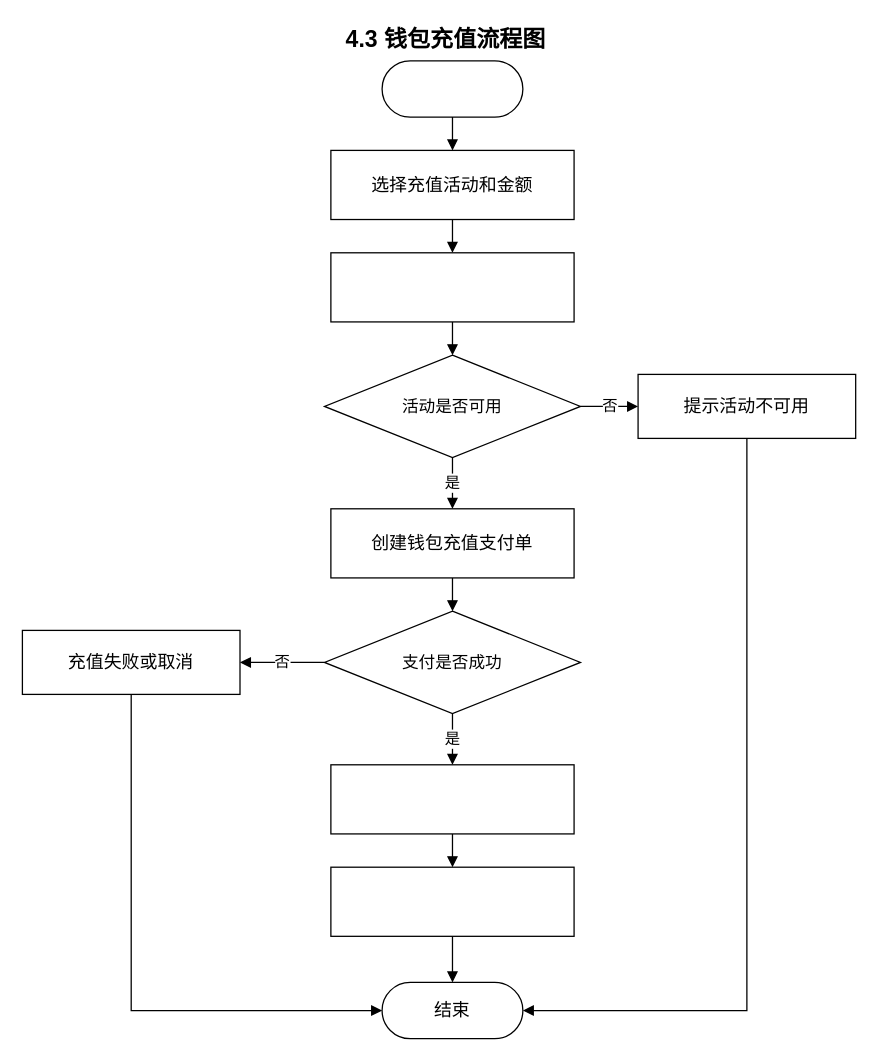
Image size: 878x1061. Some labels were removed from this diagram. Here are the shapes that lost their labels. From the top down, the centre of each, then its label:
At (x=452, y=88): "开始".
At (x=452, y=287): "校验充值活动和金额".
At (x=452, y=799): "更新钱包余额".
At (x=452, y=901): "写入充值和赠送流水".
